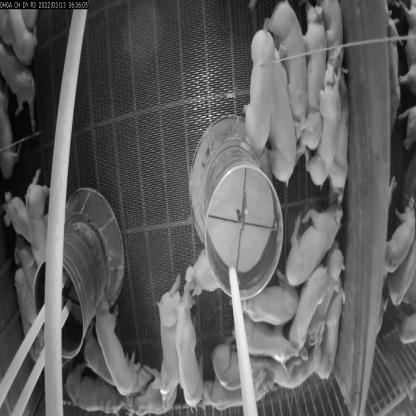Pig: (261, 0, 312, 134), (90, 289, 148, 400), (150, 272, 194, 412), (260, 40, 298, 189), (284, 202, 342, 294), (172, 276, 209, 412), (300, 6, 332, 151), (307, 61, 343, 189), (82, 333, 150, 398), (242, 24, 275, 154), (238, 269, 300, 331), (287, 261, 328, 353), (0, 42, 42, 130), (207, 340, 271, 394), (23, 168, 53, 276), (203, 374, 281, 415), (183, 242, 234, 302), (383, 188, 415, 283), (240, 323, 296, 375), (317, 288, 348, 380), (0, 92, 25, 186), (276, 350, 331, 389), (2, 188, 31, 249)
